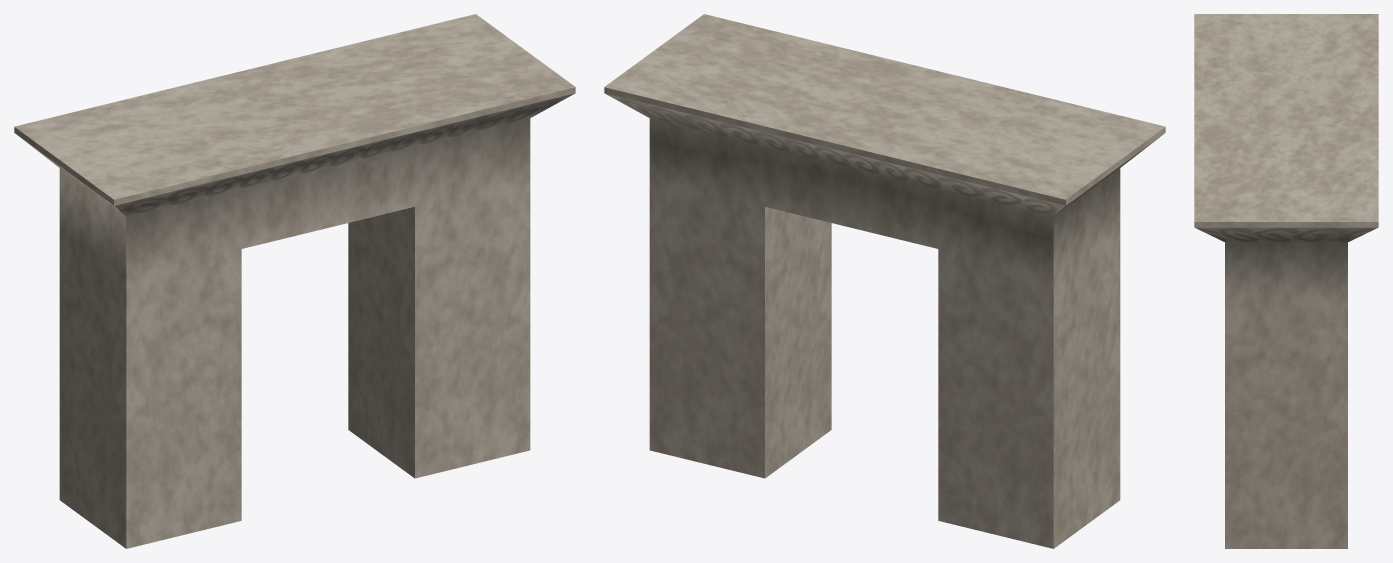
File: Models.fbx
3 views of the same model, side by side, from view 1: azimuth 30°, elevation 25°; view 2: azimuth 150°, elevation 25°; view 3: azimuth 270°, elevation 25° (orthographic). The views are drawn at different scales.
Parts seen in each view (by area): view 1: pCube3; view 2: pCube3; view 3: pCube3.
Boxes of the visible parts, bbox=[...] form: pCube3: bbox=[14, 14, 575, 548]; pCube3: bbox=[604, 14, 1165, 548]; pCube3: bbox=[1194, 14, 1378, 548].
Bounding box in the file's own units: 80 × 61 × 30.
